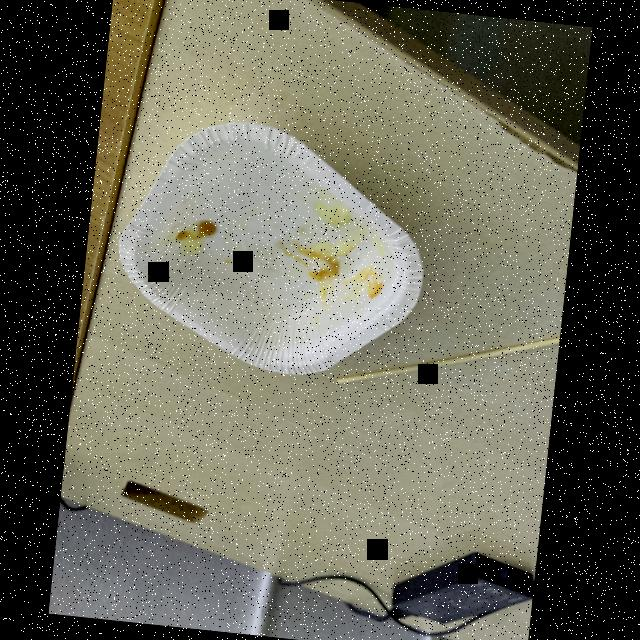cardboard_bowl: (102, 105, 442, 392)
stick: (329, 305, 560, 413)
